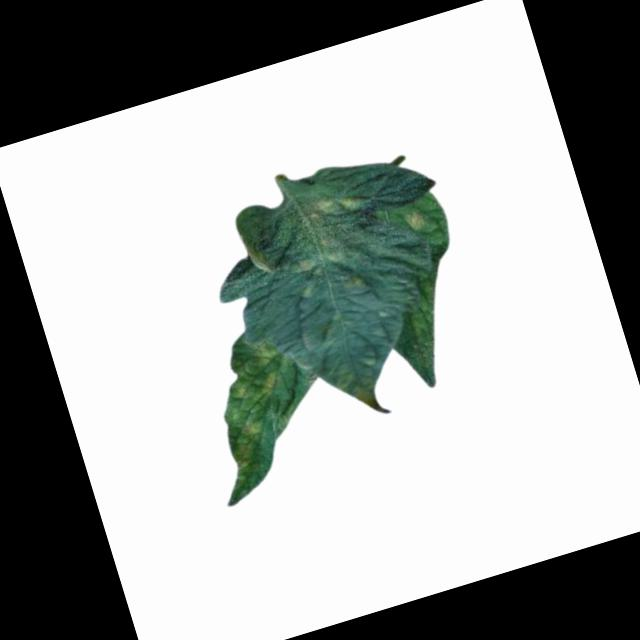Leaf_Mold: (200, 330, 322, 492), (272, 183, 380, 280), (398, 204, 429, 237)
